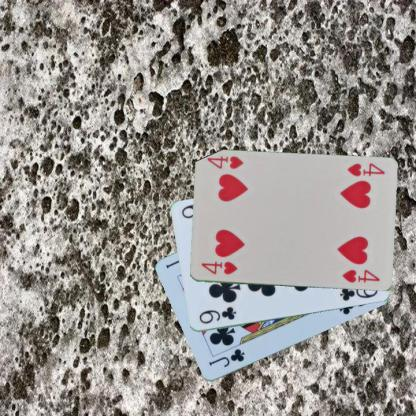4h: (198, 259, 239, 276), (344, 161, 385, 178)
9c: (196, 304, 237, 325)
Jc: (206, 346, 246, 369)
